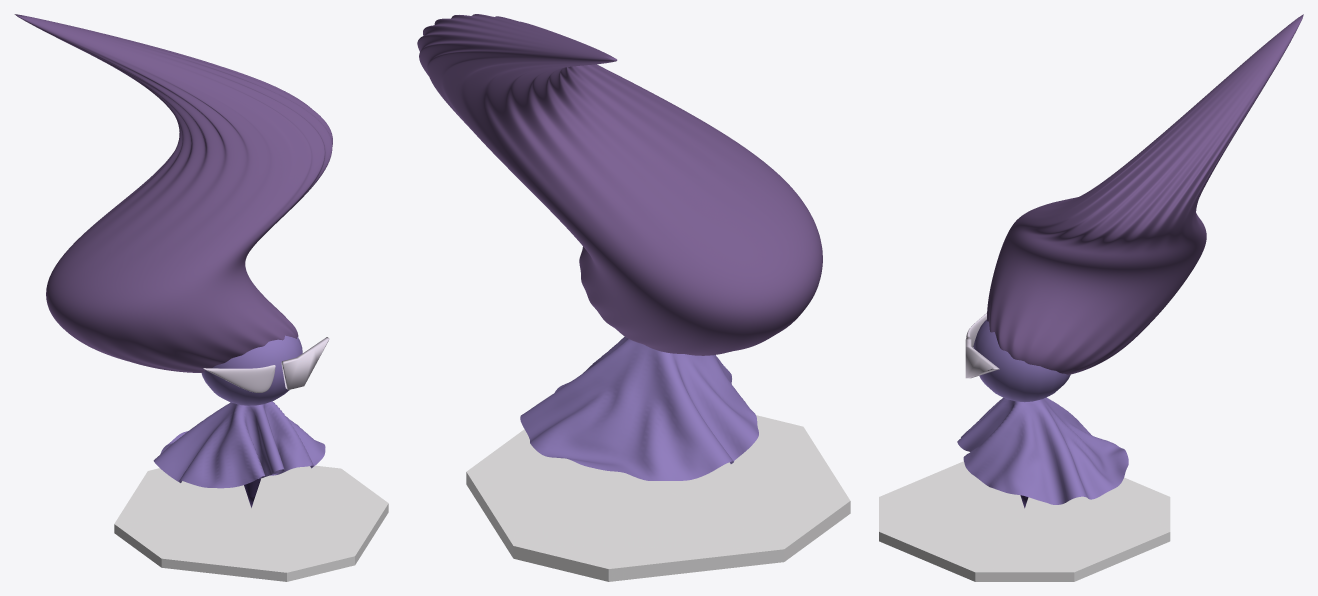
The model's file is Catharsis-transformed.glb.
3 renders of one model, left to right at view 1: azimuth 30°, elevation 25°; view 2: azimuth 150°, elevation 25°; view 3: azimuth 270°, elevation 25°, orthographic. The views are drawn at different scales.
Visible parts, largest first — view 1: pCone1; view 2: pCone1; view 3: pCone1.
Boxes of the visible parts, box(x1,y1,x2,y2) form: pCone1: box(14, 14, 388, 581); pCone1: box(417, 14, 850, 581); pCone1: box(879, 14, 1303, 581).
Bounding box in the file's own units: 0.6411 × 0.9975 × 0.8403.
Materials: 1 (1 with a texture image).
